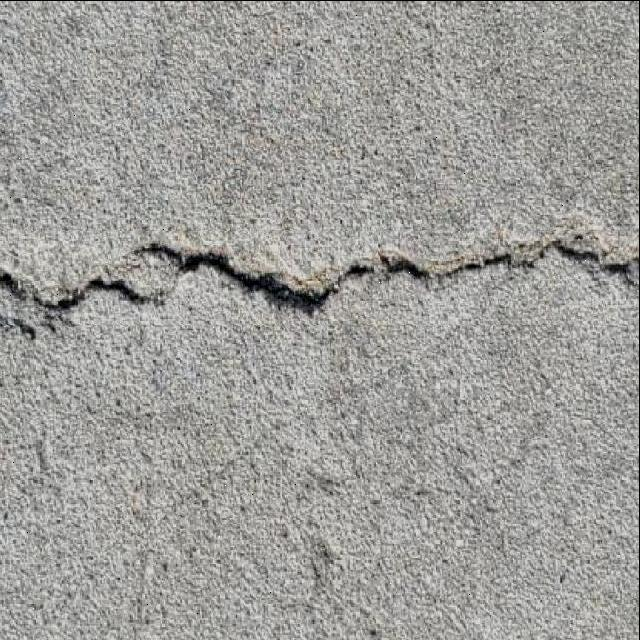crack: (0, 223, 638, 341), (115, 468, 360, 636), (3, 297, 239, 463), (409, 4, 640, 143), (157, 312, 351, 429), (170, 2, 351, 105), (2, 404, 108, 549), (6, 247, 210, 317), (23, 3, 153, 67), (287, 112, 416, 175), (227, 103, 326, 164), (247, 237, 334, 295), (544, 213, 634, 266), (139, 20, 196, 93), (15, 274, 91, 310), (372, 242, 447, 276), (439, 193, 493, 237), (102, 249, 163, 287), (0, 248, 47, 295), (498, 235, 556, 269), (1, 293, 44, 338), (49, 259, 88, 296), (260, 241, 296, 276), (36, 431, 61, 471), (488, 225, 521, 252), (142, 553, 159, 585), (278, 213, 298, 239)
dampens: (233, 274, 337, 316), (130, 241, 224, 281), (455, 247, 540, 275), (451, 256, 493, 273), (377, 249, 398, 271), (573, 233, 586, 242)
